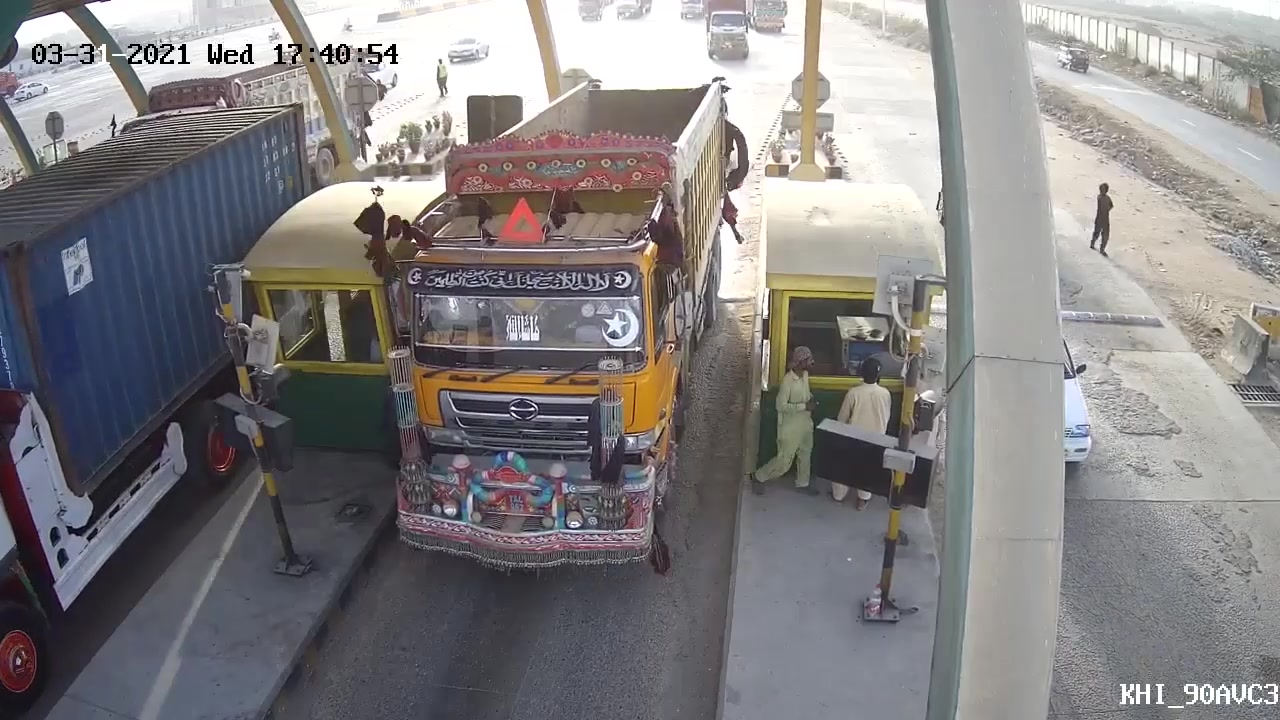F5: (364, 74, 744, 603)
